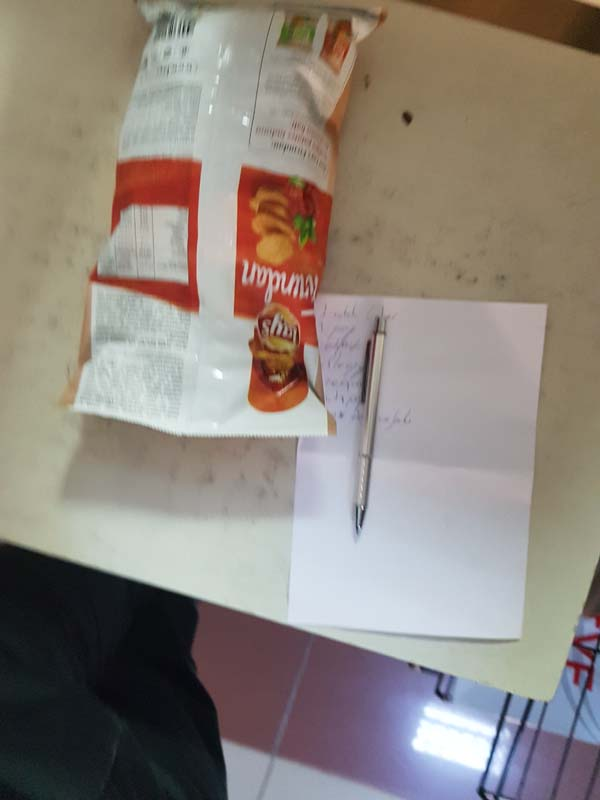laysfirindan: (80, 2, 390, 447)
